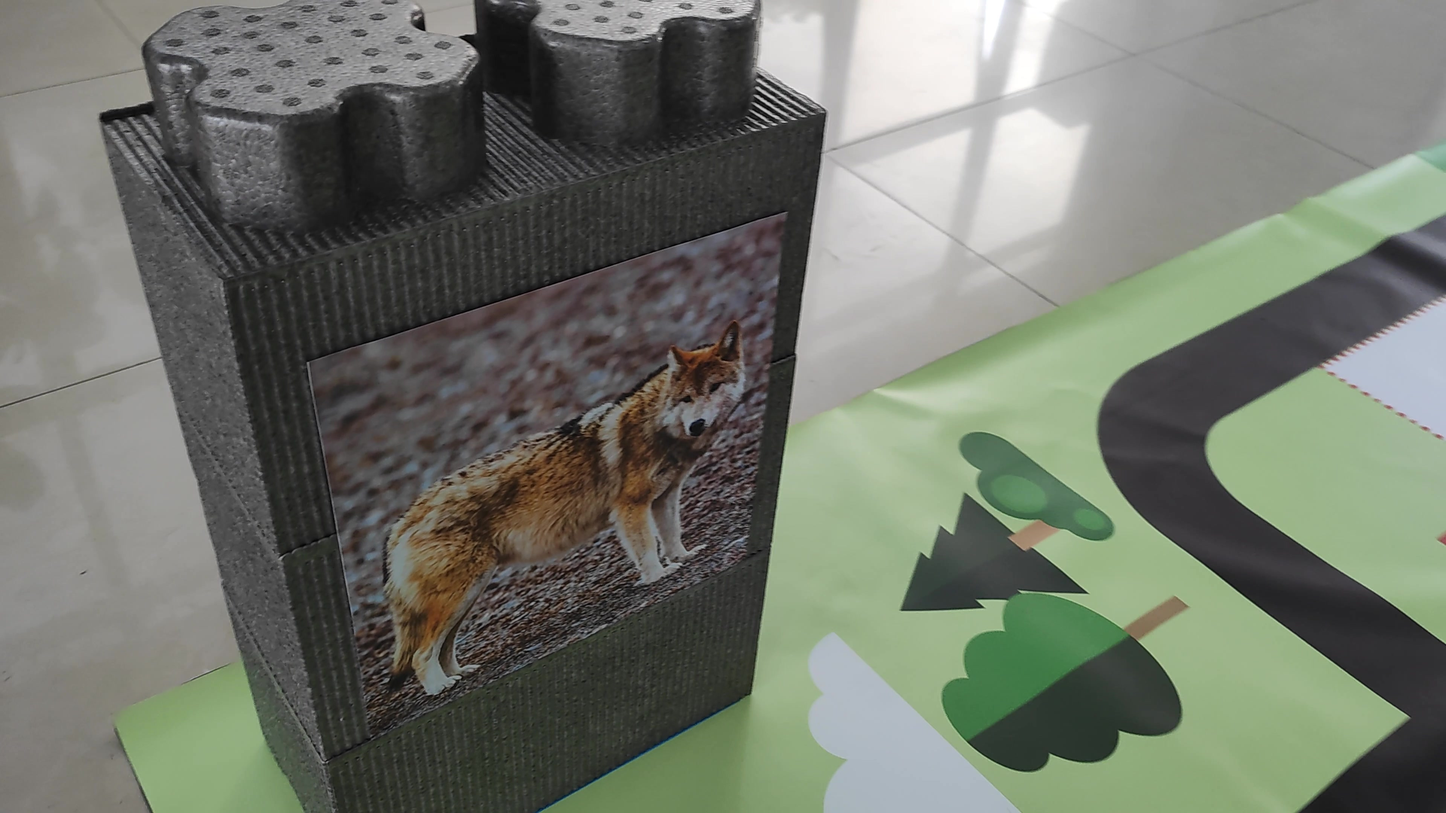wolf: (367, 310, 756, 695)
